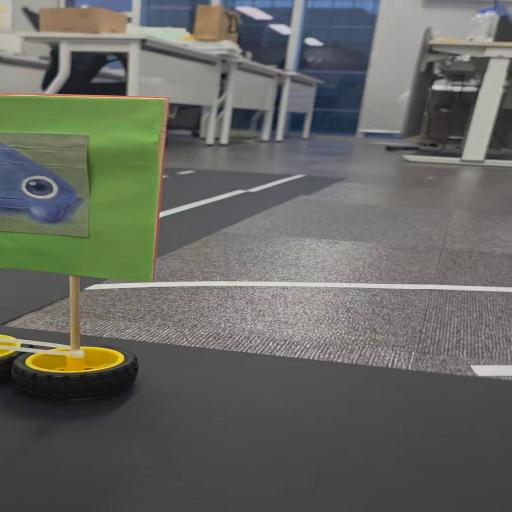Sign_B: (3, 92, 156, 413)
